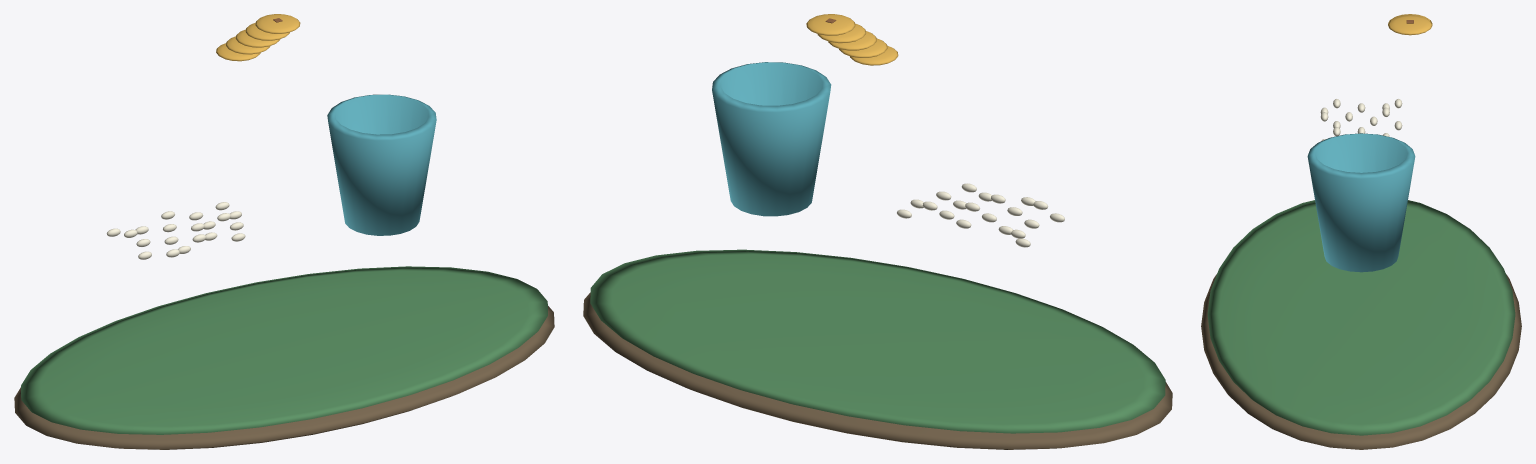
The model's file is complete-third-abundant-riches.glb.
The picture shows the model from 3 angles, left to right: view 1: azimuth 30°, elevation 25°; view 2: azimuth 150°, elevation 25°; view 3: azimuth 270°, elevation 25°; orthographic projection. The views are drawn at different scales.
Visible parts, largest first — view 1: complete-third-abundant-riches_surface_01, complete-third-abundant-riches_surface_03, complete-third-abundant-riches_surface_00, complete-third-abundant-riches_surface_04, complete-third-abundant-riches_surface_02; view 2: complete-third-abundant-riches_surface_01, complete-third-abundant-riches_surface_03, complete-third-abundant-riches_surface_00, complete-third-abundant-riches_surface_04, complete-third-abundant-riches_surface_02; view 3: complete-third-abundant-riches_surface_01, complete-third-abundant-riches_surface_03, complete-third-abundant-riches_surface_00, complete-third-abundant-riches_surface_02, complete-third-abundant-riches_surface_04.
Part boxes in pixels (x1=…): complete-third-abundant-riches_surface_01: x1=21, y1=266, x2=547, y2=434; complete-third-abundant-riches_surface_03: x1=327, y1=94, x2=436, y2=235; complete-third-abundant-riches_surface_00: x1=14, y1=306, x2=554, y2=449; complete-third-abundant-riches_surface_04: x1=216, y1=14, x2=300, y2=61; complete-third-abundant-riches_surface_02: x1=106, y1=202, x2=245, y2=259; complete-third-abundant-riches_surface_01: x1=590, y1=249, x2=1165, y2=433; complete-third-abundant-riches_surface_03: x1=712, y1=62, x2=831, y2=216; complete-third-abundant-riches_surface_00: x1=583, y1=292, x2=1172, y2=449; complete-third-abundant-riches_surface_04: x1=806, y1=14, x2=898, y2=65; complete-third-abundant-riches_surface_02: x1=897, y1=183, x2=1064, y2=247; complete-third-abundant-riches_surface_01: x1=1207, y1=200, x2=1515, y2=435; complete-third-abundant-riches_surface_03: x1=1307, y1=133, x2=1415, y2=272; complete-third-abundant-riches_surface_00: x1=1201, y1=274, x2=1521, y2=449; complete-third-abundant-riches_surface_02: x1=1320, y1=99, x2=1402, y2=140; complete-third-abundant-riches_surface_04: x1=1388, y1=14, x2=1432, y2=35.
Bounding box in the file's own units: 4.56 × 2.83 × 2.5.
